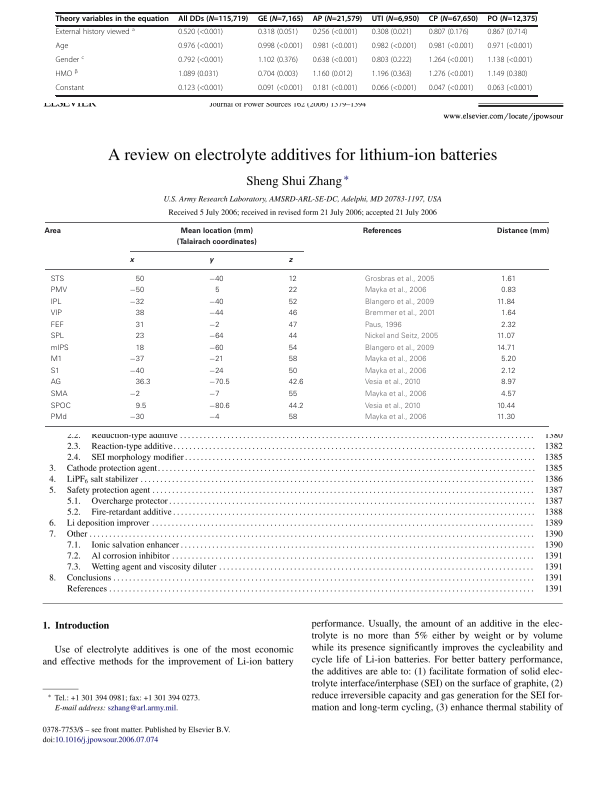borderless: (44, 221, 549, 426), (54, 11, 537, 95)
cell: (176, 227, 258, 247), (55, 15, 170, 24), (54, 26, 136, 38), (364, 332, 439, 341), (177, 15, 249, 24), (364, 310, 436, 319), (364, 275, 435, 284), (364, 298, 435, 307), (364, 344, 435, 353), (364, 367, 427, 376), (364, 390, 427, 399), (364, 413, 427, 422), (364, 379, 421, 388), (364, 402, 421, 411), (364, 287, 427, 295), (364, 356, 427, 364), (177, 28, 224, 38), (177, 42, 224, 52), (486, 42, 533, 52), (177, 56, 224, 66), (486, 56, 533, 66), (177, 84, 224, 94), (486, 84, 533, 94), (486, 15, 538, 24), (312, 28, 358, 38), (257, 42, 303, 52), (312, 42, 358, 52), (371, 42, 417, 52), (428, 42, 474, 52), (312, 56, 358, 66), (428, 56, 474, 66), (428, 70, 474, 80), (257, 84, 303, 94), (312, 84, 358, 94), (371, 84, 417, 94), (428, 84, 474, 94), (312, 15, 363, 24), (428, 15, 479, 24), (371, 15, 420, 24), (496, 227, 550, 235), (257, 15, 304, 24), (257, 28, 299, 38), (371, 28, 413, 38), (428, 28, 470, 38), (486, 28, 528, 38), (257, 56, 299, 66), (371, 56, 413, 66), (177, 70, 219, 80), (257, 70, 299, 80), (371, 70, 413, 80), (486, 70, 528, 80), (312, 70, 353, 80), (55, 54, 85, 66), (364, 321, 403, 330), (362, 227, 403, 235), (55, 84, 85, 94), (55, 68, 79, 80), (208, 379, 231, 388), (208, 402, 231, 411), (50, 402, 72, 411), (496, 298, 516, 307), (496, 332, 516, 341), (50, 344, 70, 353), (496, 344, 516, 353), (496, 402, 516, 411), (496, 413, 516, 422), (50, 390, 68, 399), (50, 413, 68, 422), (208, 275, 225, 284), (500, 275, 517, 284), (208, 298, 225, 307), (208, 310, 225, 319), (500, 310, 517, 319), (500, 321, 517, 330), (208, 332, 225, 341), (208, 344, 225, 353), (208, 356, 225, 365), (208, 367, 225, 376), (500, 379, 517, 388), (500, 390, 517, 399), (43, 227, 62, 235), (50, 287, 68, 295), (129, 298, 145, 307), (129, 356, 145, 365), (129, 367, 145, 376), (500, 367, 516, 376), (135, 379, 151, 388), (288, 379, 304, 388), (288, 402, 304, 411), (129, 413, 145, 422), (55, 42, 69, 52), (500, 287, 517, 295), (500, 356, 517, 364), (50, 275, 65, 284), (50, 321, 65, 330), (50, 332, 65, 341), (129, 287, 145, 295), (50, 298, 63, 307), (50, 310, 63, 319), (50, 356, 63, 365), (208, 321, 220, 330), (50, 379, 62, 388), (129, 390, 141, 399), (208, 390, 220, 399), (135, 402, 147, 411), (208, 413, 220, 422), (135, 275, 145, 284), (288, 275, 298, 284), (288, 298, 298, 307), (135, 310, 145, 319), (288, 310, 298, 319), (135, 321, 145, 330), (288, 321, 298, 330), (135, 332, 145, 341), (288, 332, 298, 341), (135, 344, 145, 353), (288, 344, 298, 353), (288, 356, 298, 365), (50, 367, 60, 376), (288, 367, 298, 376), (288, 390, 298, 399), (288, 413, 298, 422), (288, 287, 298, 295), (214, 287, 220, 295), (129, 258, 135, 265), (208, 258, 214, 265), (288, 258, 293, 265)
